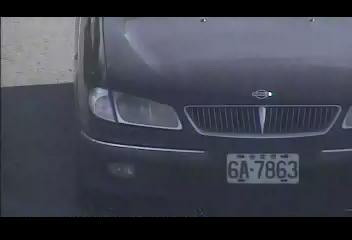plate: (225, 151, 302, 185)
